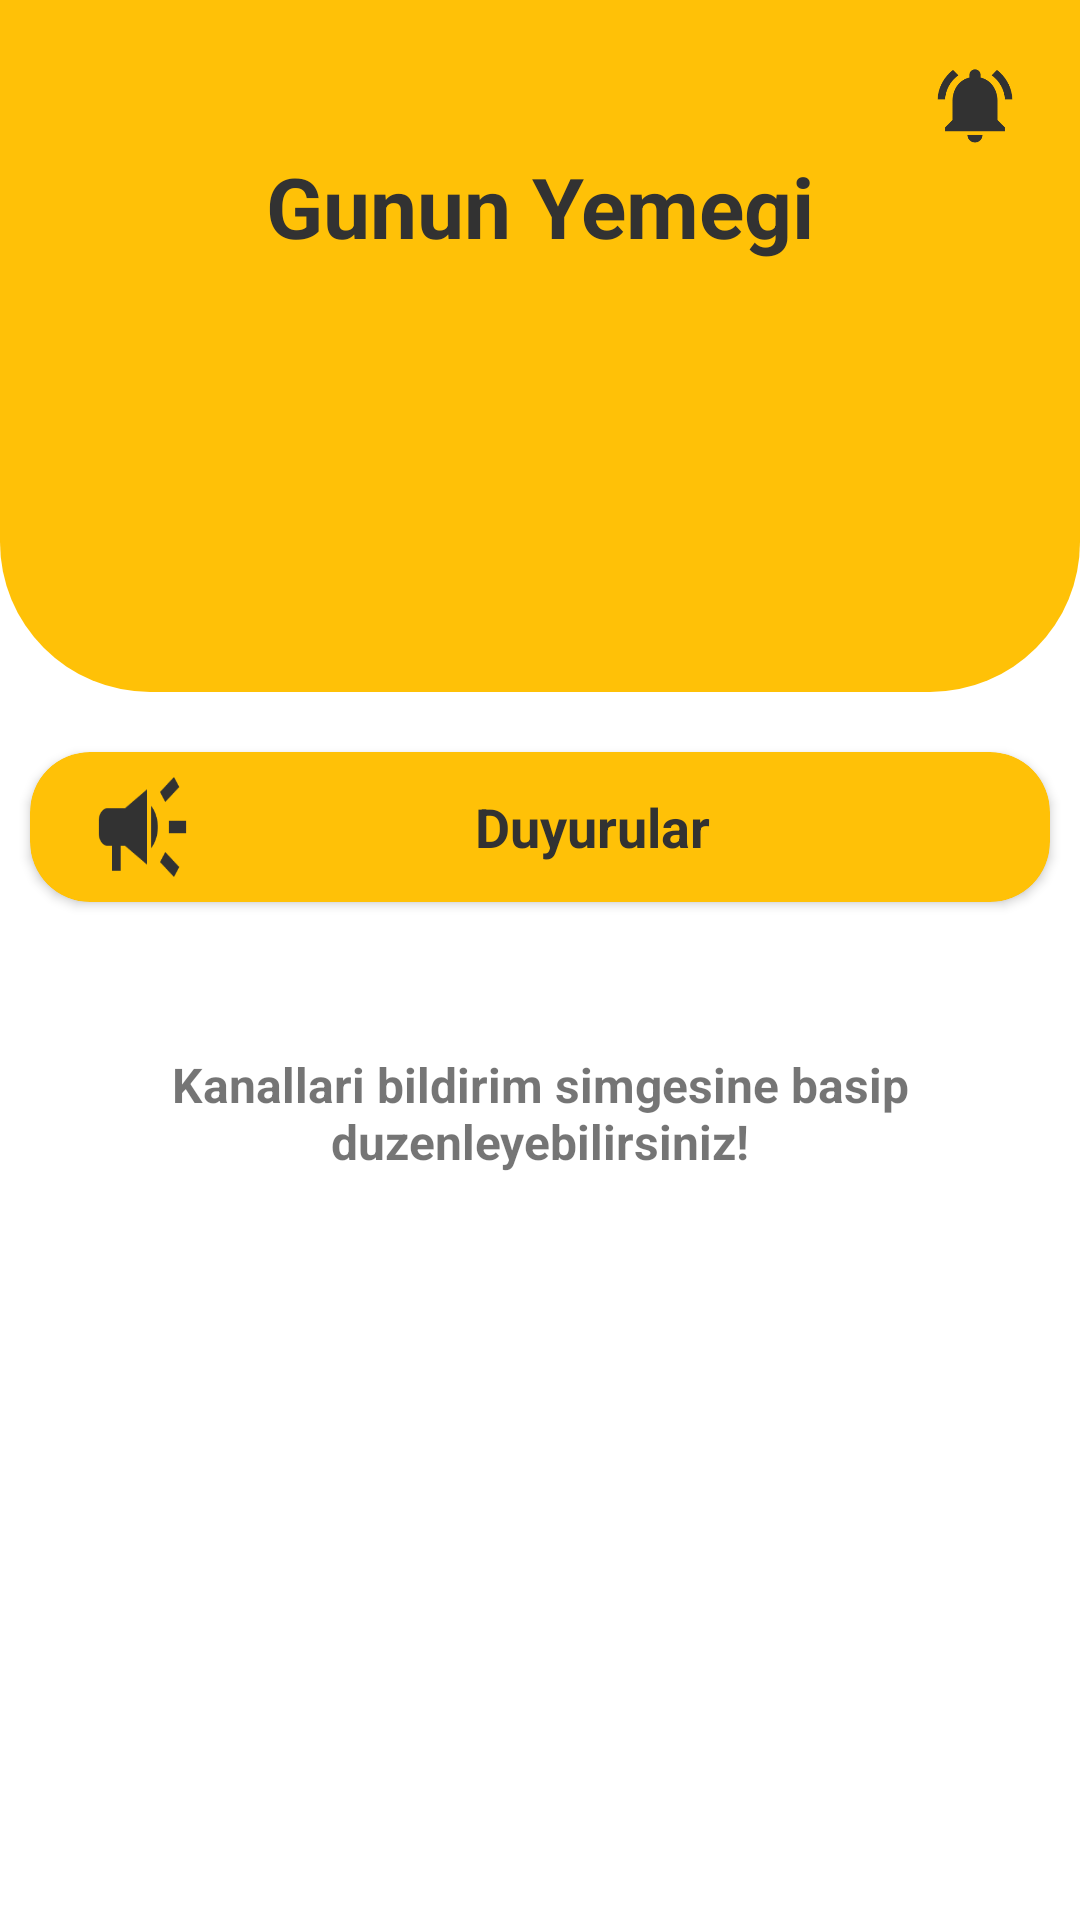

Icons on this 1080x1920 Android screen, each with the point to tap as (x=x, y=y):
campaign: (x=142, y=827)
notifications: (x=975, y=106)
